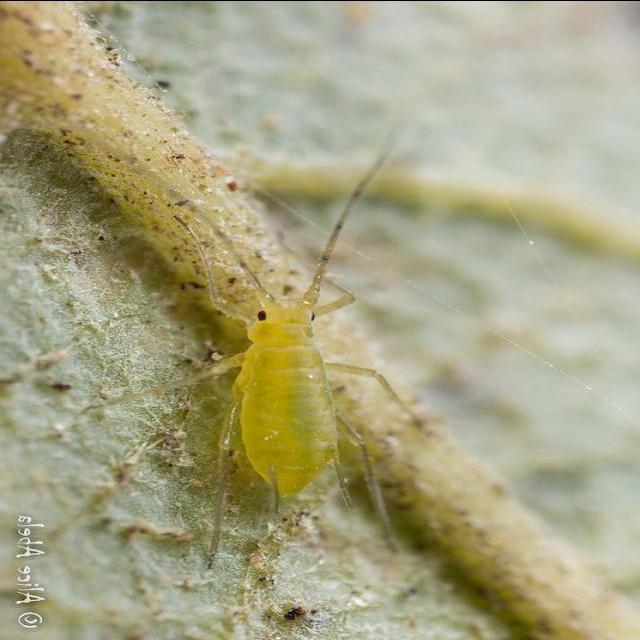aphid: (146, 176, 438, 552)
